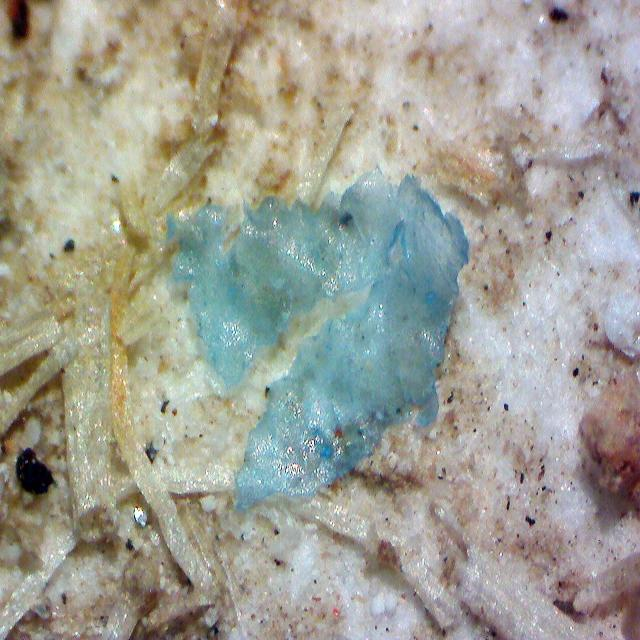microplastic: (138, 122, 533, 521)
